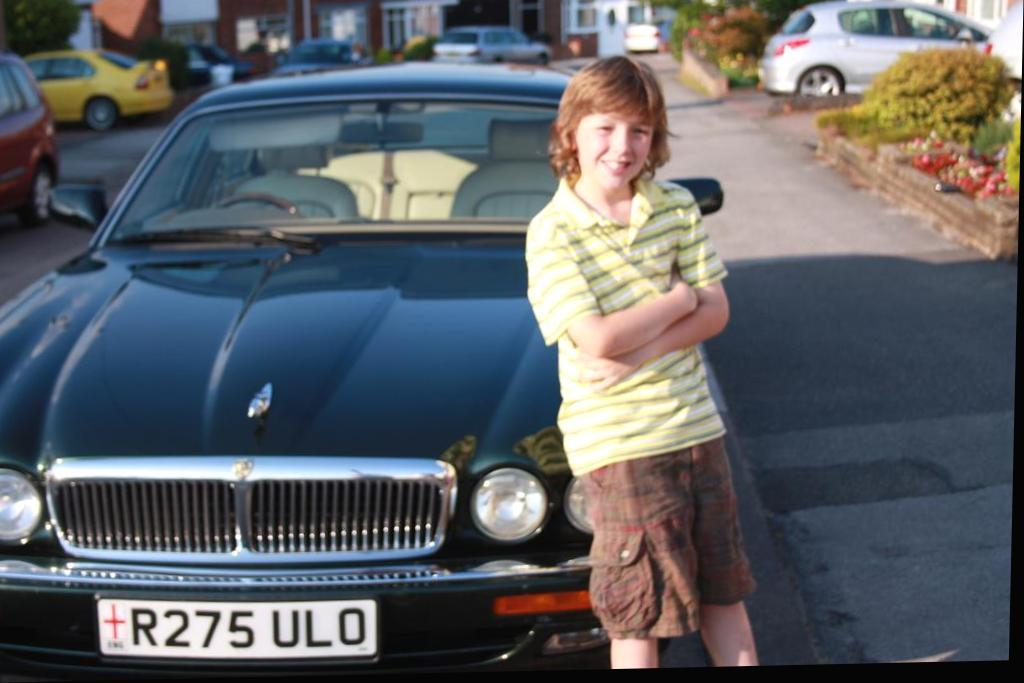License_Plate: (91, 593, 386, 663)
